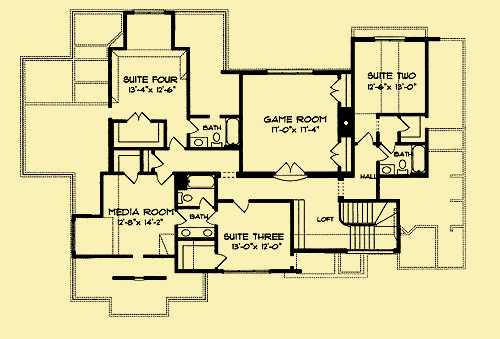door: (273, 161, 305, 178), (124, 111, 152, 126), (327, 78, 343, 102), (328, 142, 342, 169), (356, 132, 378, 148), (232, 197, 251, 215), (152, 171, 174, 186), (396, 116, 414, 134), (172, 209, 190, 227), (123, 171, 142, 186), (195, 194, 216, 207), (168, 135, 186, 150), (381, 142, 400, 156), (214, 252, 228, 269)
large_sink: (176, 189, 193, 208), (208, 131, 224, 147), (396, 159, 411, 175)
small_sink: (188, 136, 209, 148), (379, 163, 398, 176)
stairs: (335, 198, 401, 254)
tub: (410, 143, 427, 175), (225, 117, 239, 146)
